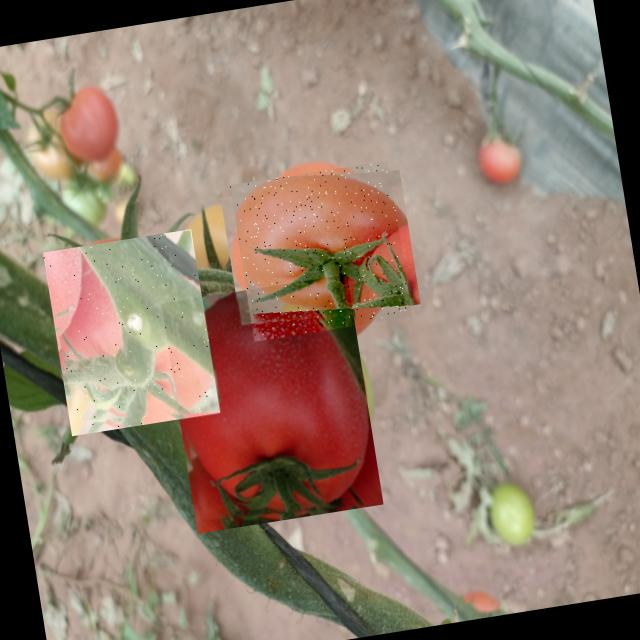Ripe Tomato: (162, 274, 384, 534), (43, 229, 220, 436), (230, 160, 412, 342)
